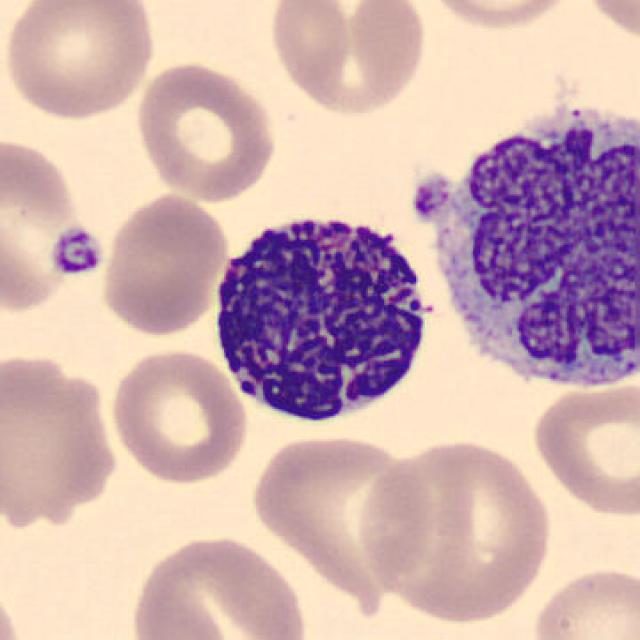Basophil: (202, 196, 444, 436)
Monocyte: (405, 89, 640, 401)
Platelets: (396, 167, 460, 225), (48, 224, 107, 278)
RBC: (356, 434, 560, 626), (245, 426, 436, 630), (0, 347, 119, 531), (131, 58, 281, 203), (263, 2, 430, 130), (105, 344, 251, 486), (126, 530, 311, 640), (96, 188, 231, 338), (0, 0, 160, 123), (0, 130, 98, 318), (528, 376, 640, 520), (343, 0, 430, 106), (264, 0, 355, 100), (526, 560, 638, 640), (419, 0, 577, 33), (579, 0, 640, 44), (0, 576, 26, 640)
